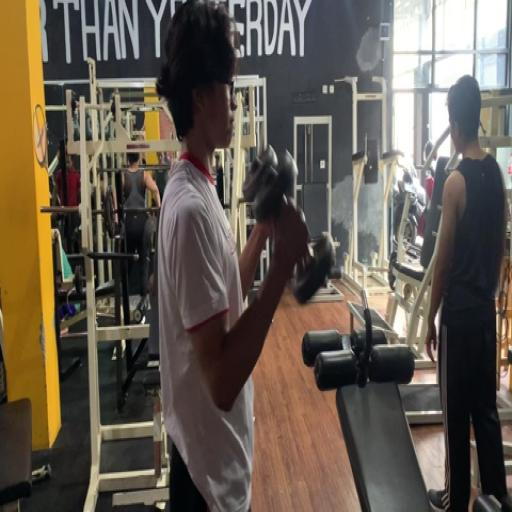exercise: (150, 0, 317, 511), (422, 72, 511, 510)
